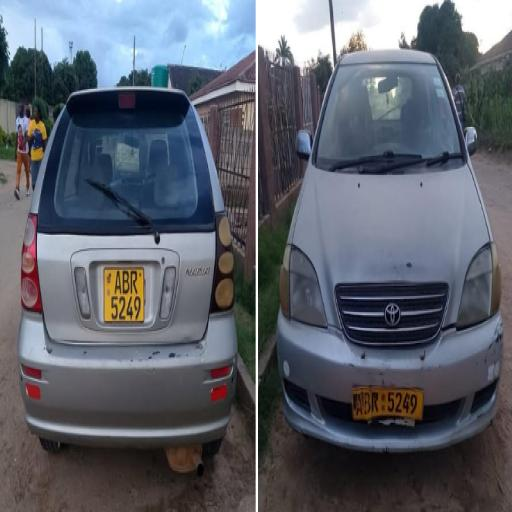number-plates: (353, 381, 424, 424), (102, 264, 144, 323)
